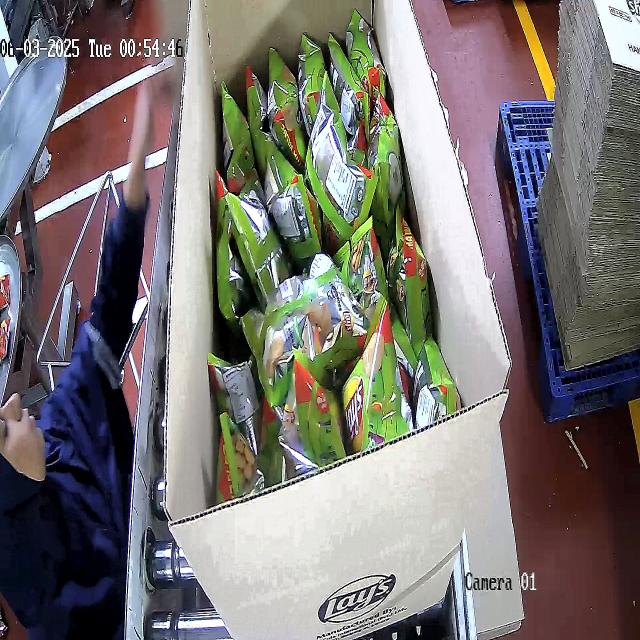YOGURT_HERB: (212, 10, 459, 497)
